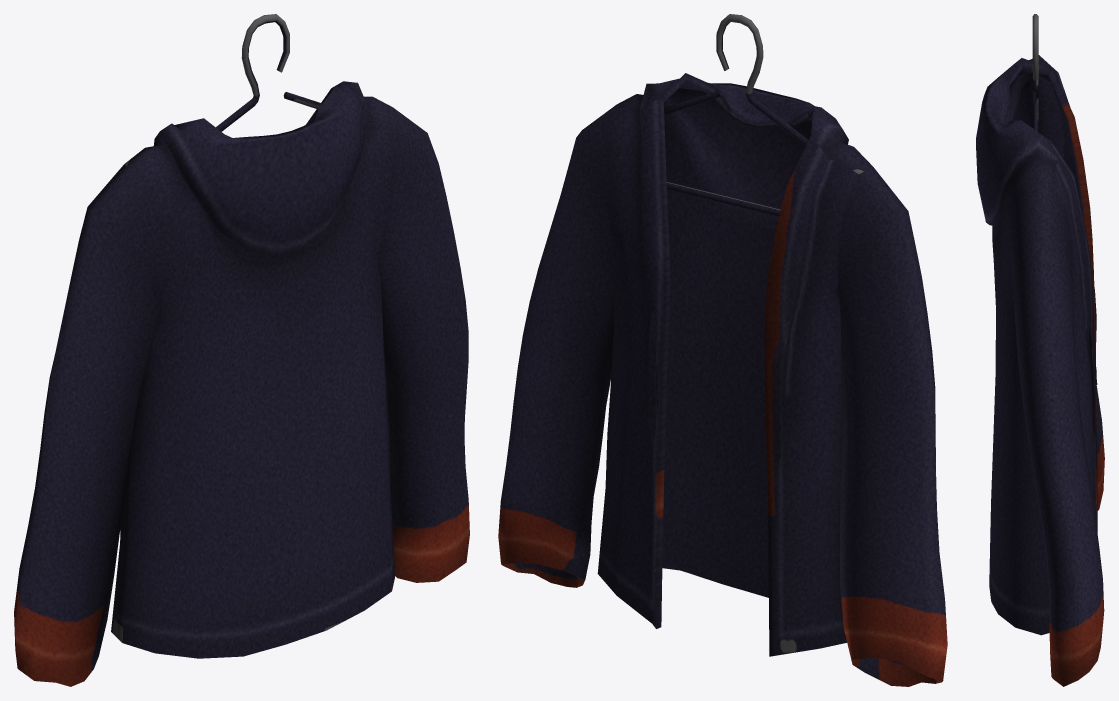
Rendered from frl_apartment_cloth_01.glb.
3 renders of one model, left to right at view 1: azimuth 30°, elevation 25°; view 2: azimuth 150°, elevation 25°; view 3: azimuth 270°, elevation 25°, orthographic. The views are drawn at different scales.
Visible parts, largest first — view 1: frl_apartment_cloth_01; view 2: frl_apartment_cloth_01; view 3: frl_apartment_cloth_01.
Boxes of the visible parts, bbox=[...] form: frl_apartment_cloth_01: bbox=[14, 14, 469, 686]; frl_apartment_cloth_01: bbox=[498, 14, 947, 686]; frl_apartment_cloth_01: bbox=[976, 14, 1104, 686].
Bounding box in the file's own units: 0.7592 × 1.01 × 0.1984.
1 material, 1 textured.
